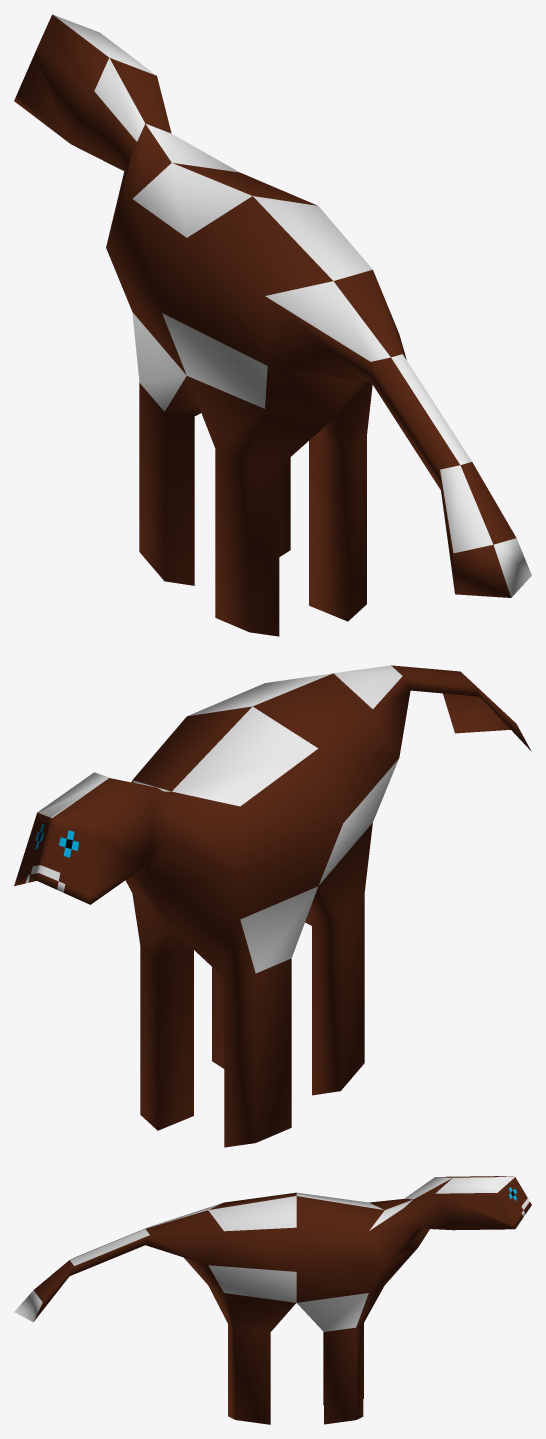
Rendered from AnimalSD.fbx.
3 renders of one model, top to bottom at view 1: azimuth 30°, elevation 25°; view 2: azimuth 150°, elevation 25°; view 3: azimuth 270°, elevation 25°, orthographic. The views are drawn at different scales.
Parts seen in each view (by area): view 1: Cube; view 2: Cube; view 3: Cube.
Boxes of the visible parts, bbox=[...] form: Cube: bbox=[14, 14, 531, 636]; Cube: bbox=[14, 665, 531, 1147]; Cube: bbox=[14, 1176, 531, 1424].
Bounding box in the file's own units: 38.23 × 87.74 × 173.
